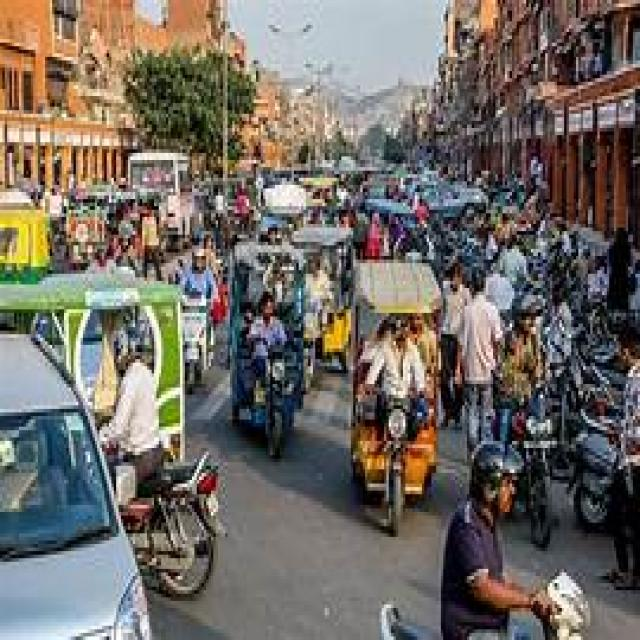Auto: (291, 231, 353, 367), (0, 208, 50, 282)
Bus: (130, 154, 190, 237)
Two Wheeler: (121, 452, 220, 596), (523, 388, 556, 547), (533, 572, 589, 639), (175, 467, 219, 533), (184, 296, 209, 385), (380, 604, 420, 639), (157, 555, 189, 570)
